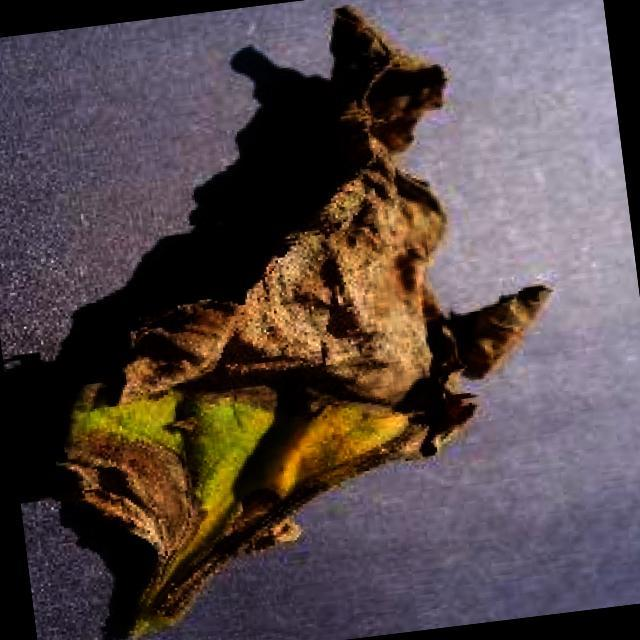Tomato late blight leaf: (3, 0, 584, 640)
